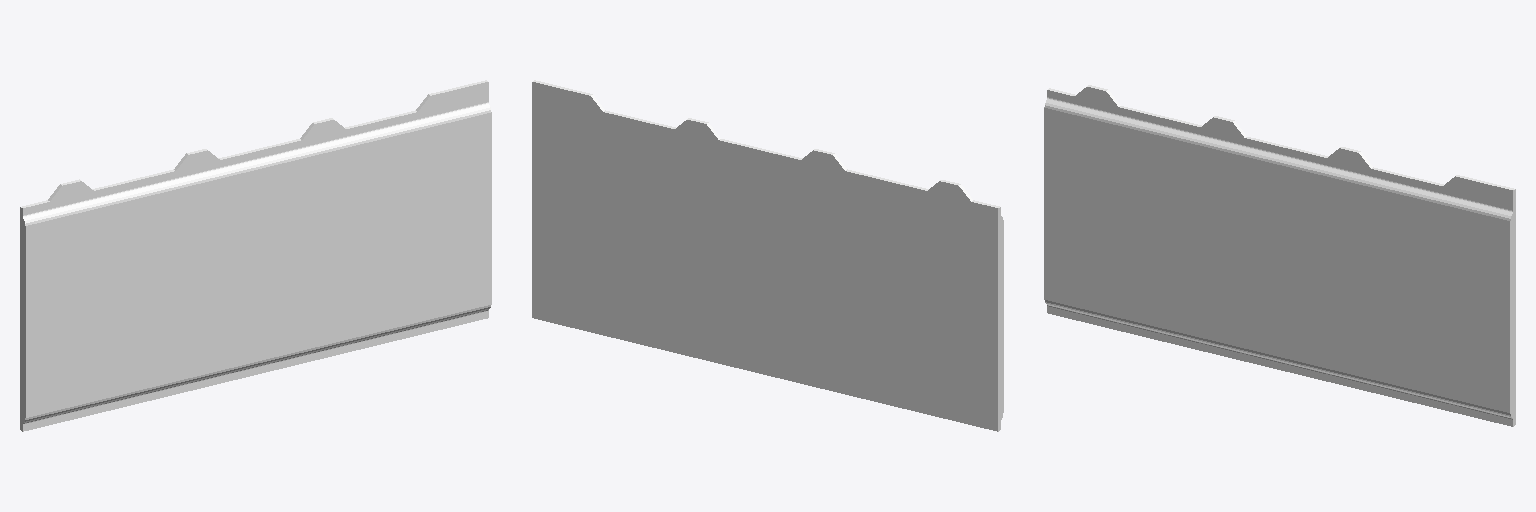
robot.urdf — wing_flap:
<?xml version="1.0" encoding="utf-8"?>
<!-- This URDF was automatically created by SolidWorks to URDF Exporter! Originally created by Stephen Brawner (brawner@gmail.com) 
     Commit Version: 1.6.0-4-g7f85cfe  Build Version: 1.6.7995.38578
     For more information, please see http://wiki.ros.org/sw_urdf_exporter -->
<robot
  name="wing_flap">
  <link
    name="flap_base_link">
    <inertial>
      <origin
        xyz="0.0022266 0.0053793 -0.023244"
        rpy="0 0 0" />
      <mass
        value="113.47" />
      <inertia
        ixx="10.603"
        ixy="-0.14608"
        ixz="0.0029704"
        iyy="54.671"
        iyz="0.0071761"
        izz="65.235" />
    </inertial>
    <visual>
      <origin
        xyz="0 0 0"
        rpy="1.57079632679 0 0" />
      <geometry>
        <mesh
          filename="package://wing_flap/meshes/base_link.STL" scale="0.001 0.001 0.001" />
      </geometry>
      <material
        name="">
        <color
          rgba="1 1 1 1" />
      </material>
    </visual>
    <collision>
      <origin
        xyz="0 0 0"
        rpy="1.57079632679 0 0" />
      <geometry>
        <mesh
          filename="package://wing_flap/meshes/base_link.STL" scale="0.001 0.001 0.001" />
      </geometry>
    </collision>
  </link>
</robot>

--- Render facts (derived) ---
Views: 3 orthographic renders of the robot side by side, from view 1: azimuth 30°, elevation 25°; view 2: azimuth 150°, elevation 25°; view 3: azimuth 330°, elevation 25°.
Model wing_flap with 1 links and 0 joints (none), rooted at flap_base_link, posed every joint at zero.
Links seen in each view (by area): view 1: flap_base_link; view 2: flap_base_link; view 3: flap_base_link.
Boxes of the visible links, x1,y1,x2,y2 form: flap_base_link: (20, 80, 491, 431); flap_base_link: (532, 80, 1003, 431); flap_base_link: (1044, 85, 1515, 426).
Bounding box of the posed robot: 2.4 × 0.045 × 1.16 m (x, y, z).
1 mesh visuals loaded from 1 distinct referenced files (1 binary STL).
